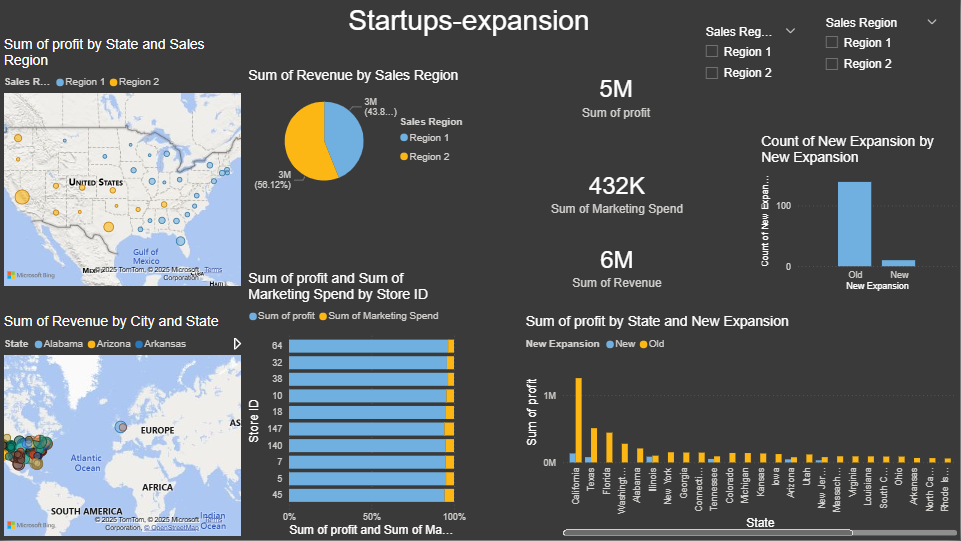

Layout of this report page (visuals, bound fields, positions):
{"tool":"powerbi","page":{"name":"Page 1","canvas":[1280,720],"ordinal":0},"visuals":[{"type":"map","fields":{"Category":["Sheet1.City"],"Series":["Sheet1.State"],"Size":["Sum(Sheet1.Revenue)"]},"box":[0,418.3,326.7,301.7],"z":0},{"type":"textbox","box":[256.7,0,738.3,126.7],"z":1000},{"type":"textbox","box":[743,407,280,243],"z":2000},{"type":"pieChart","fields":{"Series":["Sheet1.Sales Region"],"Y":["Sum(Sheet1.Revenue)"]},"box":[326.2,90,313.8,175],"z":3000},{"type":"map","fields":{"Category":["Sheet1.State"],"Series":["Sheet1.Sales Region"],"Size":["Sum(Sheet1.profit)"]},"box":[0,48.3,326.7,338.3],"z":4000},{"type":"card","fields":{"Values":["Sum(Sheet1.profit)"]},"box":[706.2,46.2,230,160],"z":5000},{"type":"card","fields":{"Values":["Sum(Sheet1.Marketing Spend)"]},"box":[715,202.5,212.5,106.2],"z":6000},{"type":"slicer","fields":{"Values":["Sheet1.Sales Region"]},"box":[1087.5,16.2,173.8,110],"z":7000},{"type":"slicer","fields":{"Values":["Sheet1.Sales Region"]},"box":[927.5,28.8,145,97.5],"z":8000},{"type":"clusteredColumnChart","fields":{"Category":["Sheet1.State"],"Y":["Sum(Sheet1.profit)"],"Series":["Sheet1.New Expansion"]},"box":[695,418.8,585,301.2],"z":9000},{"type":"card","fields":{"Values":["Sum(Sheet1.Revenue)"]},"box":[715,300,212.5,107.5],"z":10000},{"type":"hundredPercentStackedBarChart","fields":{"Category":["Sheet1.Store ID"],"Y":["Sum(Sheet1.profit)","Sum(Sheet1.Marketing Spend)"]},"box":[326.2,360,300,360],"z":11000},{"type":"columnChart","fields":{"Category":["Sheet1.New Expansion"],"Y":["CountNonNull(Sheet1.New Expansion)"]},"box":[1010,177.5,270,215],"z":12000}]}

Visuals, with their boxes in screenshot pixels (x1, y1, x2, y2), scaled from the page's 1280x720 canvas onto the 961x541 screenshot:
map - Sheet1.City x Sheet1.State: 0:314:245:540
textbox: 193:0:747:95
textbox: 558:306:768:488
pieChart - Sheet1.Sales Region x Sum(Sheet1.Revenue): 245:68:480:199
map - Sheet1.State x Sheet1.Sales Region: 0:36:245:290
card - Sum(Sheet1.profit): 530:35:703:155
card - Sum(Sheet1.Marketing Spend): 537:152:696:232
slicer - Sheet1.Sales Region: 816:12:947:95
slicer - Sheet1.Sales Region: 696:22:805:95
clusteredColumnChart - Sheet1.State x Sum(Sheet1.profit): 522:315:960:540
card - Sum(Sheet1.Revenue): 537:225:696:306
hundredPercentStackedBarChart - Sheet1.Store ID x Sum(Sheet1.profit): 245:270:470:540
columnChart - Sheet1.New Expansion x CountNonNull(Sheet1.New Expansion): 758:133:960:295
